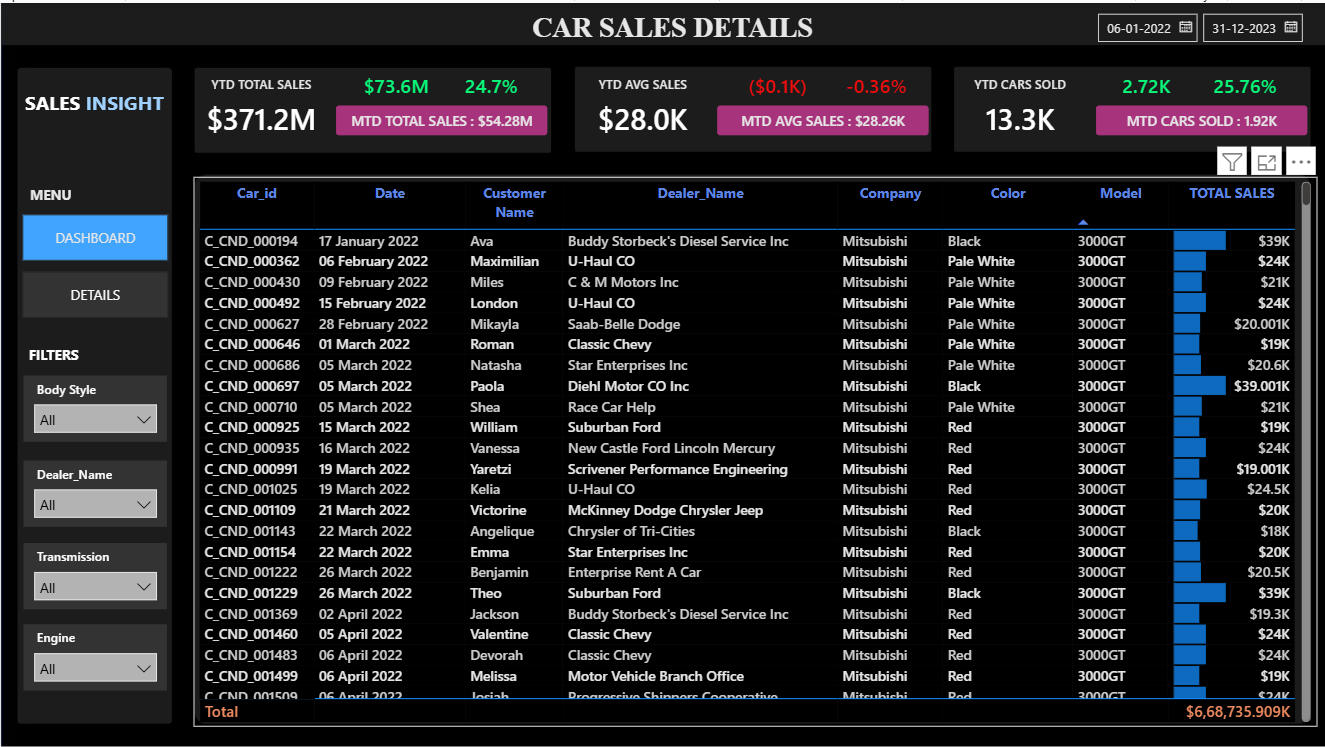

What the dashboard file says about the page in this screenshot:
{"tool":"powerbi","page":{"name":"DETAILS","canvas":[1280,720],"ordinal":1},"visuals":[{"type":"card","title":"YTD TOTAL SALES","fields":{"Values":["CAR SALE DATA.YTD TOTAL SALES"]},"box":[168.9,70,165.3,70],"z":0},{"type":"card","fields":{"Values":["CAR SALE DATA.SALES DIFFERENCE"]},"box":[334.2,65.1,95.3,33.8],"z":1000},{"type":"card","fields":{"Values":["CAR SALE DATA.YOY SALES DIFFERENCE"]},"box":[425.9,65.1,95.3,33.8],"z":2000},{"type":"card","fields":{"Values":["CAR SALE DATA.MTD CONCATENATE"]},"box":[323.3,98.9,203.9,29],"z":3000},{"type":"card","title":"YTD AVG SALES","fields":{"Values":["CAR SALE DATA.YTD AVG SALES"]},"box":[536.9,70,165.3,70],"z":4000},{"type":"card","fields":{"Values":["CAR SALE DATA.AVG DIFFERENCE"]},"box":[702.1,65.1,95.3,33.8],"z":5000},{"type":"card","fields":{"Values":["CAR SALE DATA.YDY GROWTH IN AVG PRICE"]},"box":[797.5,65.1,95.3,33.8],"z":6000},{"type":"card","fields":{"Values":["CAR SALE DATA.MTD AVG CONCATENATE"]},"box":[691.3,98.9,203.9,29],"z":7000},{"type":"card","title":"YTD CARS SOLD","fields":{"Values":["CAR SALE DATA.YTD CARS SOLD"]},"box":[901.2,70,165.3,70],"z":8000},{"type":"card","fields":{"Values":["CAR SALE DATA.CARS SOLD DIFF"]},"box":[1058,65.1,95.3,33.8],"z":9000},{"type":"card","fields":{"Values":["CAR SALE DATA.YOY GROWTH IN CAR SOLD"]},"box":[1153.4,65.1,95.3,33.8],"z":10000},{"type":"card","fields":{"Values":["CAR SALE DATA.MTD CARS SOLD CONCATENATE"]},"box":[1056.8,98.9,203.9,29],"z":11000},{"type":"slicer","fields":{"Values":["CAR SALE DATA.Body Style"]},"box":[21.2,359.8,138.8,63.8],"z":12000},{"type":"slicer","fields":{"Values":["CAR SALE DATA.Dealer_Name"]},"box":[21.2,441,138.8,63.8],"z":13000},{"type":"slicer","fields":{"Values":["CAR SALE DATA.Transmission"]},"box":[21.2,521,138.8,63.8],"z":14000},{"type":"slicer","fields":{"Values":["CAR SALE DATA.Engine"]},"box":[21.2,599.8,138.8,63.8],"z":15000},{"type":"tableEx","fields":{"Values":["CAR SALE DATA.Car_id","CAR SALE DATA.Date","CAR SALE DATA.Customer Name","CAR SALE DATA.Dealer_Name","CAR SALE DATA.Company","CAR SALE DATA.Color","CAR SALE DATA.Model","Sum(CAR SALE DATA.Price ($))"]},"box":[186.2,167.5,1083.8,531.2],"z":16000},{"type":"textbox","box":[418.8,3.8,458.8,41.2],"z":17000},{"type":"pageNavigator","box":[20,203.3,141.7,101.7],"z":18000},{"type":"textbox","box":[21.7,325.6,70,35],"z":19000},{"type":"textbox","box":[22.5,171.2,68.8,27.5],"z":20000},{"type":"textbox","box":[17.5,78.8,147.5,35],"z":21000},{"type":"slicer","fields":{"Values":["CAR SALE DATA.Date"]},"box":[1046.2,0,223.8,48.8],"z":22000}]}

Visuals, with their boxes in screenshot pixels (x1, y1, x2, y2), scaled from the page's 1280x720 canvas onto the 1325x747 screenshot:
"YTD TOTAL SALES" card: bbox=[175, 73, 346, 145]
card - CAR SALE DATA.SALES DIFFERENCE: bbox=[346, 68, 445, 103]
card - CAR SALE DATA.YOY SALES DIFFERENCE: bbox=[441, 68, 540, 103]
card - CAR SALE DATA.MTD CONCATENATE: bbox=[335, 103, 546, 133]
"YTD AVG SALES" card: bbox=[556, 73, 727, 145]
card - CAR SALE DATA.AVG DIFFERENCE: bbox=[727, 68, 825, 103]
card - CAR SALE DATA.YDY GROWTH IN AVG PRICE: bbox=[826, 68, 924, 103]
card - CAR SALE DATA.MTD AVG CONCATENATE: bbox=[716, 103, 927, 133]
"YTD CARS SOLD" card: bbox=[933, 73, 1104, 145]
card - CAR SALE DATA.CARS SOLD DIFF: bbox=[1095, 68, 1194, 103]
card - CAR SALE DATA.YOY GROWTH IN CAR SOLD: bbox=[1194, 68, 1293, 103]
card - CAR SALE DATA.MTD CARS SOLD CONCATENATE: bbox=[1094, 103, 1305, 133]
slicer - CAR SALE DATA.Body Style: bbox=[22, 373, 166, 439]
slicer - CAR SALE DATA.Dealer_Name: bbox=[22, 458, 166, 524]
slicer - CAR SALE DATA.Transmission: bbox=[22, 541, 166, 607]
slicer - CAR SALE DATA.Engine: bbox=[22, 622, 166, 688]
tableEx - CAR SALE DATA.Car_id x CAR SALE DATA.Date: bbox=[193, 174, 1315, 725]
textbox: bbox=[434, 4, 908, 47]
pageNavigator: bbox=[21, 211, 167, 316]
textbox: bbox=[22, 338, 95, 374]
textbox: bbox=[23, 178, 95, 206]
textbox: bbox=[18, 82, 171, 118]
slicer - CAR SALE DATA.Date: bbox=[1083, 0, 1315, 51]
